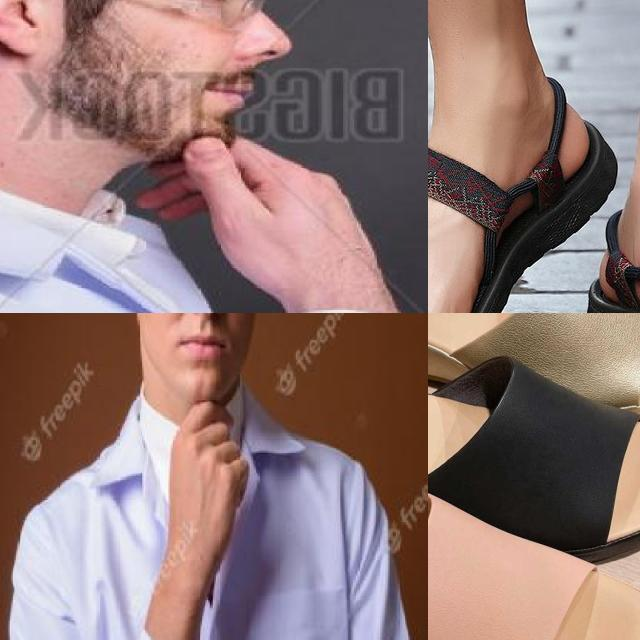No_Ear-Protection: (0, 0, 44, 63)
Sandals: (428, 52, 618, 313), (428, 423, 640, 640)
face_nomask: (184, 0, 290, 132), (143, 313, 265, 386)
hand_noglove: (126, 136, 405, 313), (166, 395, 254, 588)
person: (6, 313, 428, 640), (0, 0, 383, 313)
